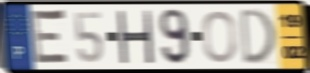5: (72, 10, 105, 65)
9: (159, 8, 191, 66)
D: (238, 7, 277, 67)
E: (30, 7, 72, 68)
H: (115, 9, 155, 65)
O: (201, 9, 239, 64)
